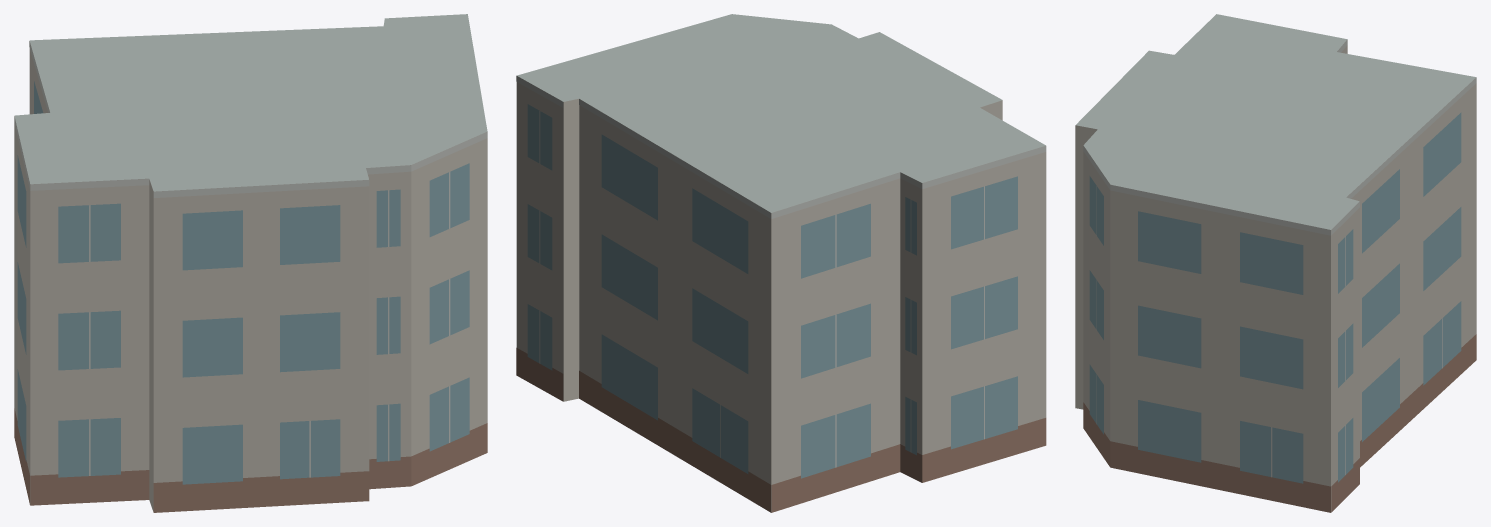
The model's file is survey-upis-32492708.glb.
The picture shows the model from 3 angles, left to right: view 1: azimuth 30°, elevation 25°; view 2: azimuth 150°, elevation 25°; view 3: azimuth 270°, elevation 25°; orthographic projection. The views are drawn at different scales.
Parts seen in each view (by area): view 1: survey-upis-32492708.tmp; view 2: survey-upis-32492708.tmp; view 3: survey-upis-32492708.tmp.
Boxes of the visible parts, x1,y1,x2,y2 form: survey-upis-32492708.tmp: [14, 14, 487, 512]; survey-upis-32492708.tmp: [516, 14, 1046, 512]; survey-upis-32492708.tmp: [1075, 14, 1476, 512].
Size of the model in its own units: 19.49 by 11.9 by 15.3.
